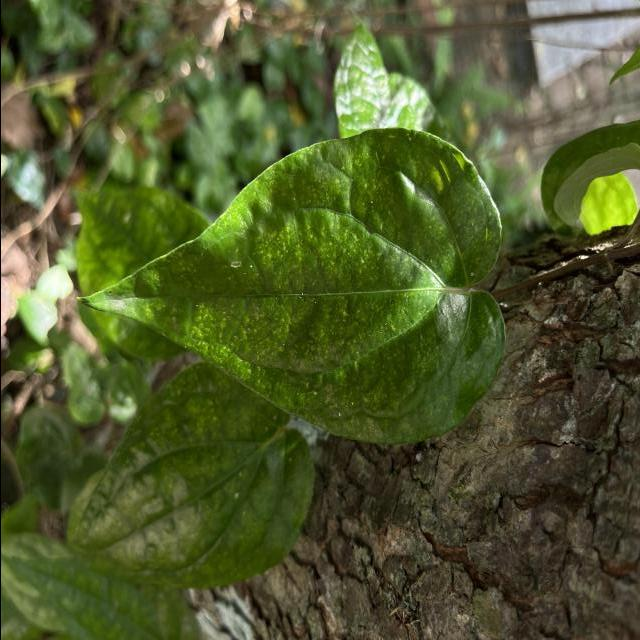Piper betle: (71, 123, 512, 449)
